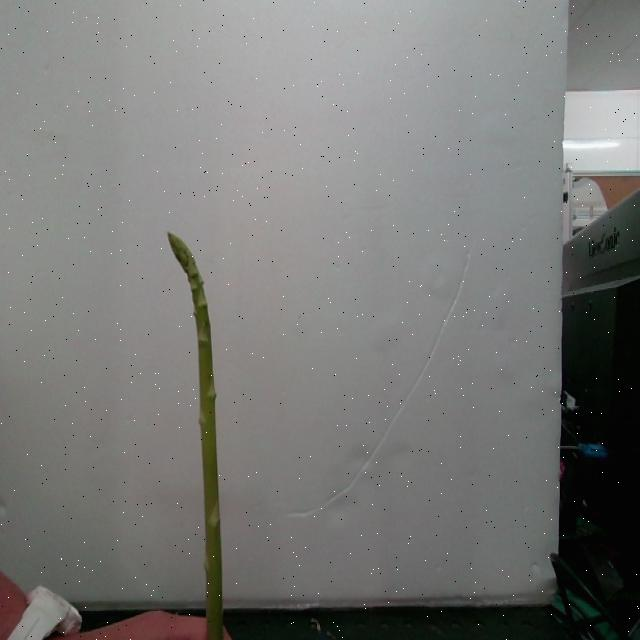aspargus: (168, 234, 231, 640)
